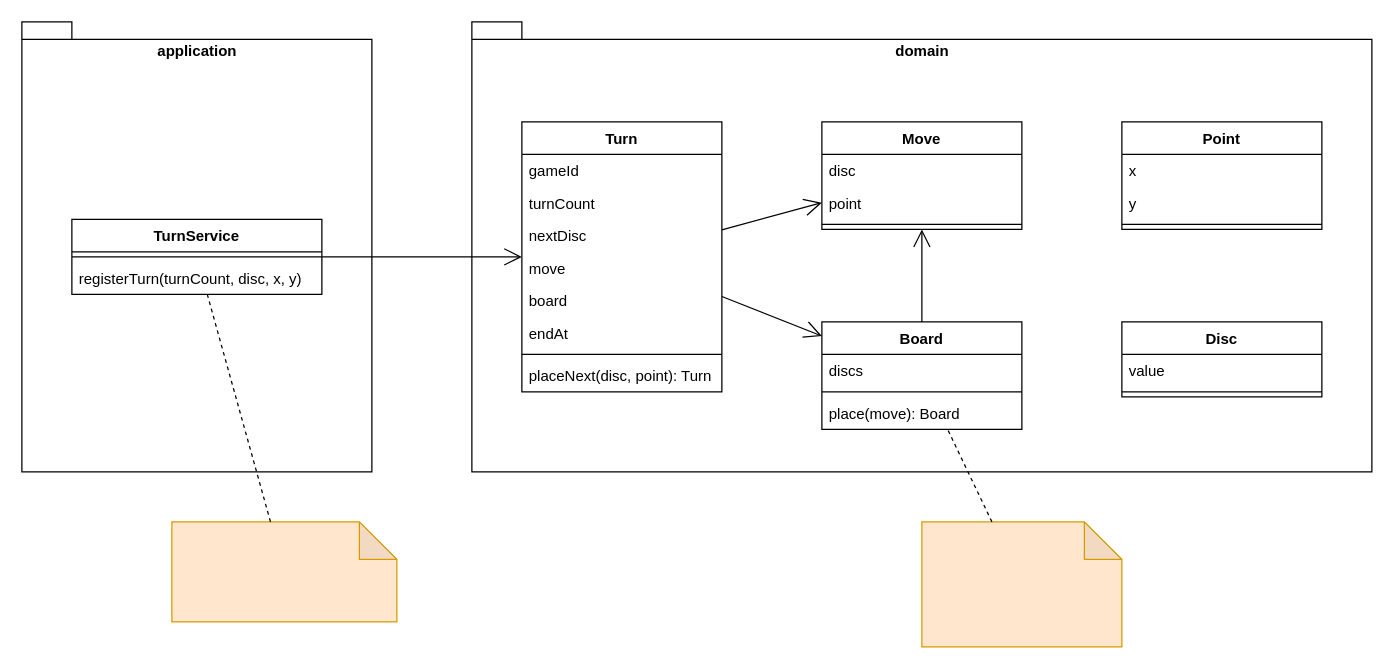
The diagram is 1394 pixels wide and 669 high, and some of its shapes have lost their labels. Each missing label, with the centre of its shape:
"discsはdiscの2次元配列 placeの内部では ・盤面に置けるかチェック ・石を置く ・ひっくり返す" belongs at point 1021,584.
"registerTurnの内部では、 ・1つ前のターンを取得する ・石を置く ・ターンを保存する" belongs at point 284,571.
